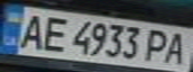3: (121, 24, 148, 61), (106, 21, 127, 60)
4: (66, 18, 93, 56)
9: (87, 19, 109, 57)
A: (12, 10, 51, 51), (160, 29, 193, 65)
E: (36, 14, 72, 53)
P: (139, 27, 175, 63)
